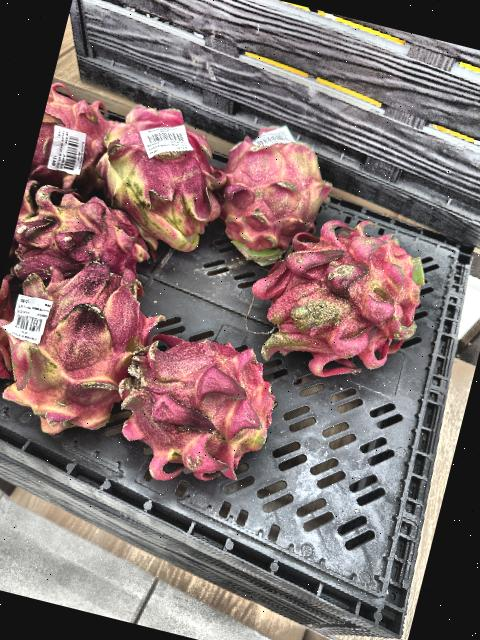buah-naga-belum-matang: (94, 310, 306, 512), (242, 205, 434, 392), (0, 245, 152, 447), (80, 87, 246, 257), (190, 104, 344, 282), (2, 178, 154, 313)
buah-naga-matang: (27, 74, 126, 200)
